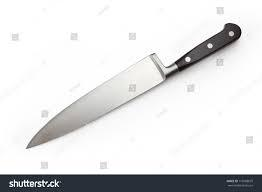Knife: (25, 22, 241, 149)
